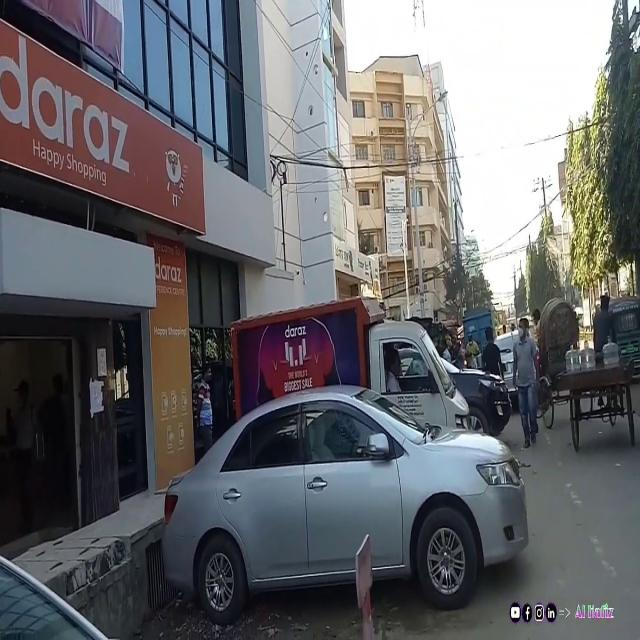silver: (161, 390, 529, 615)
